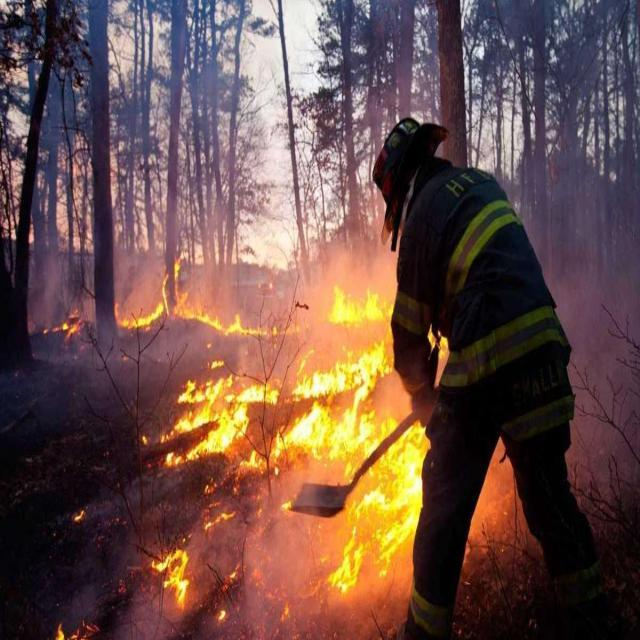Fire: (166, 344, 432, 590), (110, 254, 308, 334), (324, 270, 392, 329), (150, 532, 196, 610), (44, 302, 86, 358)
